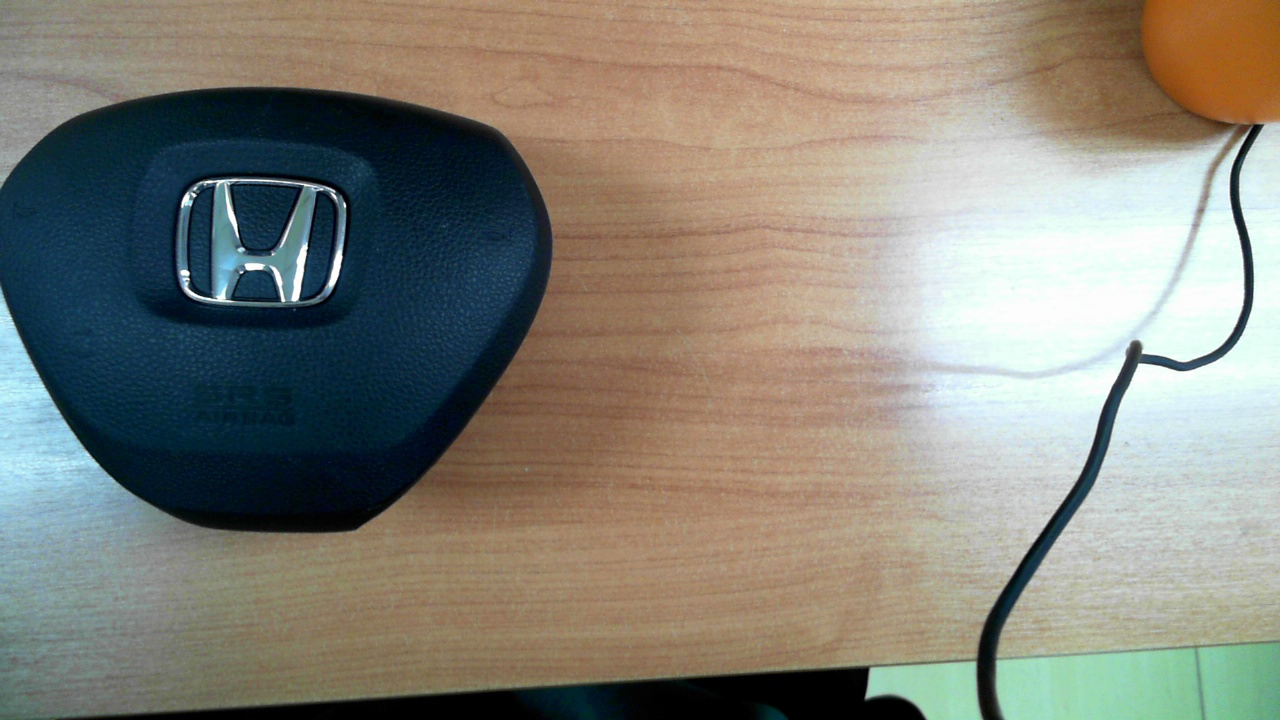Airbag: (0, 86, 554, 534)
Honda: (175, 178, 347, 308)
